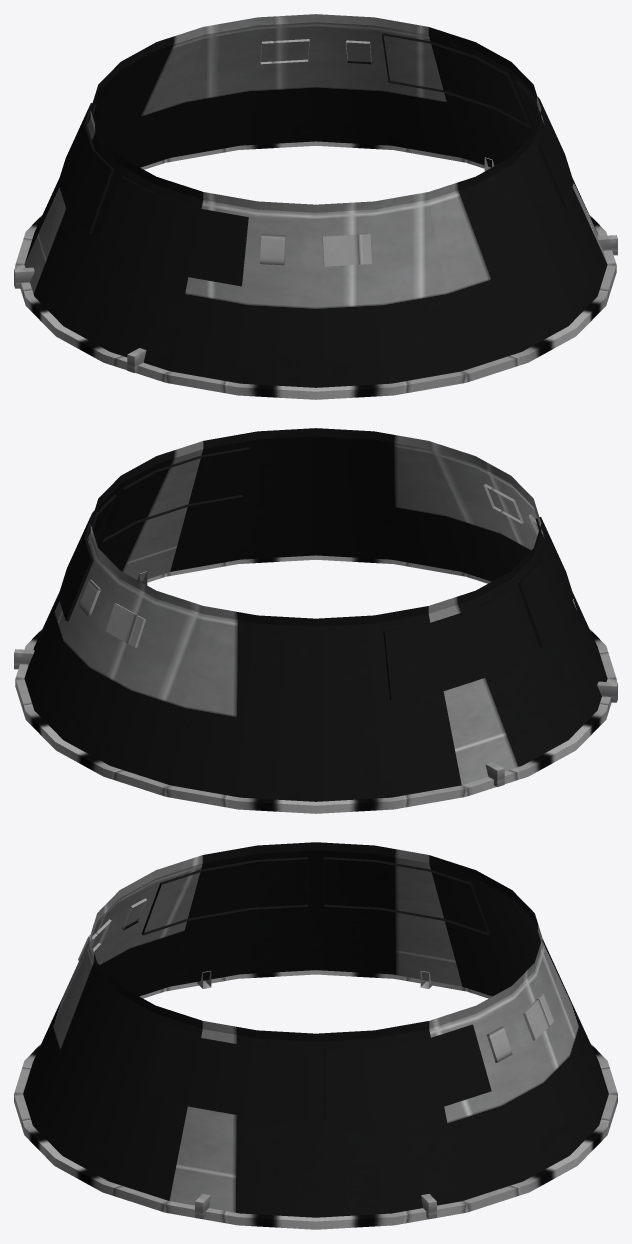
File: big adapter naked.obj
3 views of the same model, one above another, from view 1: azimuth 30°, elevation 25°; view 2: azimuth 150°, elevation 25°; view 3: azimuth 270°, elevation 25° (orthographic).
Parts seen in each view (by area): view 1: 1; view 2: 1; view 3: 1.
Boxes of the visible parts, box(x1,y1,x2,y2) form: 1: box(14, 14, 617, 399); 1: box(14, 428, 617, 813); 1: box(14, 842, 617, 1229).
Bounding box in the file's own units: 2.5 × 0.75 × 2.5.
